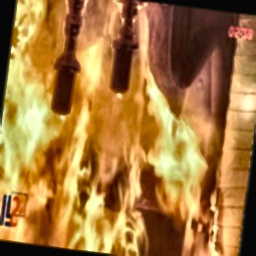fire: (0, 17, 224, 256)
